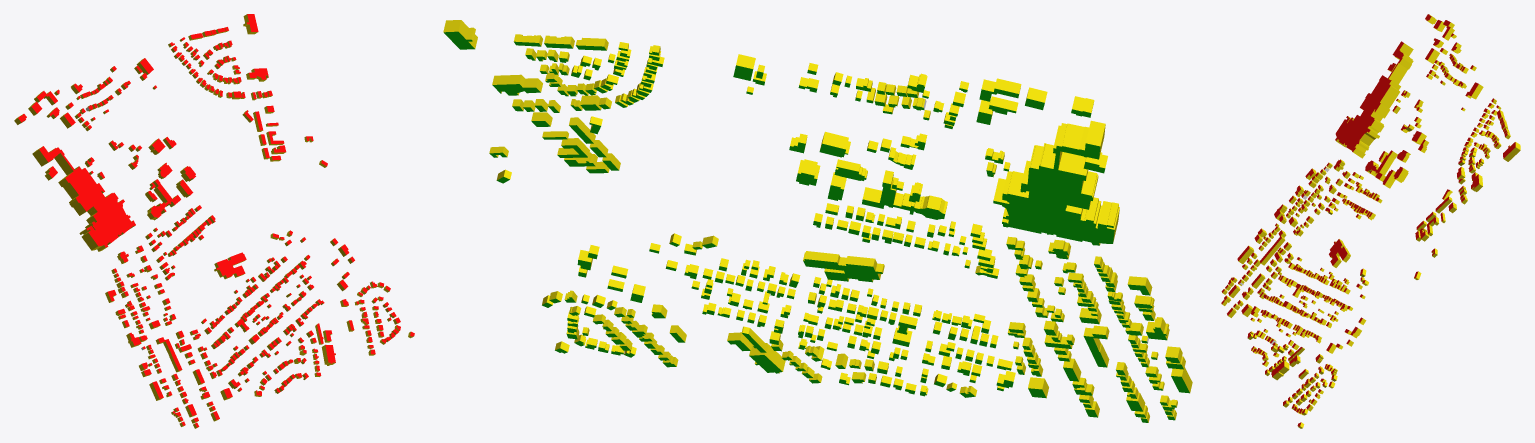
3 renders of one model, left to right at view 1: azimuth 30°, elevation 25°; view 2: azimuth 150°, elevation 25°; view 3: azimuth 270°, elevation 25°, orthographic. The views are drawn at different scales.
Visible parts, largest first — view 1: mesh; view 2: mesh; view 3: mesh.
Part boxes in pixels (x1,y1,x2,y2): mesh: (14,14,414,428); mesh: (443,20,1192,422); mesh: (1221,14,1520,428).
Size of the model in its own units: 1126 by 853 by 874.
